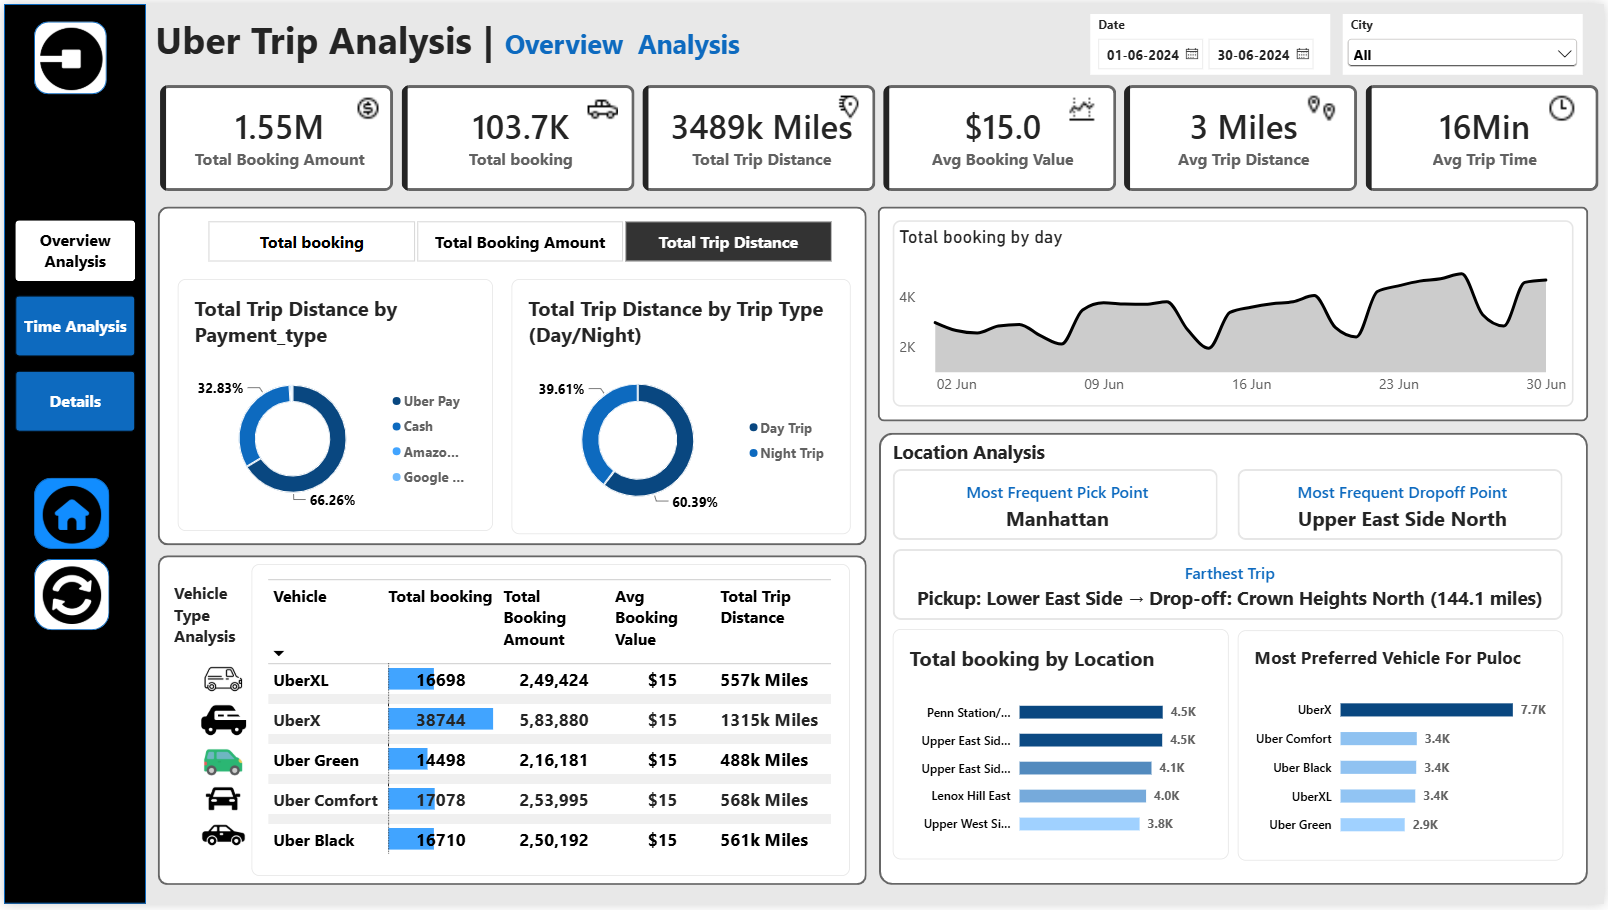

The page's visual inventory and layout, read from the dashboard file:
{"tool":"powerbi","page":{"name":"Overview Analysis","canvas":[1600,900],"ordinal":0},"visuals":[{"type":"shape","box":[0,0,142,899.7],"z":0},{"type":"shape","box":[30.5,17.4,72.7,72.7],"z":0,"group":"g1"},{"type":"textbox","box":[151.4,10,601.4,65.7],"z":1000},{"type":"image","box":[36.3,23.2,62,62.5],"z":1000,"group":"g1"},{"type":"cardVisual","fields":{"Data":["Trip details.Total Booking Amount","Trip details.Total booking","Trip details.Total Trip Distance","Trip details.Avg Booking Time","Trip details.Avg Trip Distance","Trip details.Avg Trip Time"]},"box":[150.8,76.1,1449.5,116.4],"z":2000},{"type":"image","box":[579.2,89.6,40.3,30],"z":3000},{"type":"shape","box":[153.8,203,709.1,338.9],"z":4000},{"type":"image","box":[1539.1,89.6,40,30],"z":5000},{"type":"image","box":[828.5,89.6,35,26],"z":6000},{"type":"image","box":[1297.3,89.6,40,30],"z":7000},{"type":"image","box":[344.8,89.6,40,30],"z":8000},{"type":"image","box":[1058.4,89.6,40,30],"z":9000},{"type":"slicer","fields":{"Values":["Dynamic Measure.Dynamic Measure"]},"box":[183.6,215,662.8,44.8],"z":10000},{"type":"donutChart","fields":{"Category":["Trip details.Payment_type"],"Y":["Trip details.Total Trip Distance Measure"]},"box":[173.2,274.7,315,252.3],"z":11000},{"type":"donutChart","fields":{"Category":["Trip details.Trip Type (Day/Night)"],"Y":["Trip details.Total Trip Distance Measure"]},"box":[507.6,274.7,338.9,255.3],"z":12000},{"type":"shape","box":[153.8,550.9,709.1,329.9],"z":13000},{"type":"pivotTable","fields":{"Rows":["Trip details.Vehicle"],"Values":["Trip details.Total booking","Trip details.Total Booking Amount","Trip details.Avg Booking Time","Trip details.Total Trip Distance"]},"box":[247.8,559.8,598.6,312],"z":14000},{"type":"image","box":[192.3,694.2,53.7,44.8],"z":15000},{"type":"image","box":[192.3,656.8,53.7,37.3],"z":16000},{"type":"image","box":[192.3,738.9,53.7,38.8],"z":17000},{"type":"image","box":[196,777.8,46.3,34.3],"z":18000},{"type":"image","box":[187.1,812.1,64.2,43.3],"z":19000},{"type":"textbox","box":[170.2,577.7,71.7,79.1],"z":20000},{"type":"shape","box":[873.3,203,710.6,215],"z":21000},{"type":"areaChart","title":"Total booking by day","fields":{"Category":["Calender Table.Date.Variation.Date Hierarchy.Year","Calender Table.Date.Variation.Date Hierarchy.Quarter","Calender Table.Date.Variation.Date Hierarchy.Month","Calender Table.Date.Variation.Date Hierarchy.Day"],"Y":["Trip details.Total booking"]},"box":[888.2,216.5,680.7,186.6],"z":22000},{"type":"shape","box":[874.8,428.4,709.1,452.3],"z":23000},{"type":"cardVisual","fields":{"Data":["Trip details.Most Frequent Pick Point","Trip details.Most Frequent Dropoff Point"]},"box":[888.7,465,670.4,71.8],"z":24000},{"type":"cardVisual","fields":{"Data":["Trip details.Farthest Trip"]},"box":[888.7,545.1,670.4,71.8],"z":25000},{"type":"barChart","fields":{"Category":["Dim_Location.Location"],"Y":["Trip details.Total booking"]},"box":[888.7,624.5,335.9,230.6],"z":26000},{"type":"barChart","title":" Most Preferred Vehicle For Puloc","fields":{"Category":["Trip details.Vehicle"],"Y":["CountNonNull(Trip details.PULocationID)"]},"box":[1233.8,626.1,325.3,230.6],"z":27000},{"type":"textbox","box":[888.7,435.2,317.6,29],"z":28000},{"type":"slicer","fields":{"Values":["Calender Table.Date"]},"box":[1085.8,10,239.7,61.1],"z":29000},{"type":"slicer","fields":{"Values":["Dim_Location.City"]},"box":[1339.2,10,239.7,61.1],"z":30000},{"type":"group","id":"g1","title":"Group 1","box":[30.5,17.4,72.7,72.7],"z":31000},{"type":"pageNavigator","box":[10.8,216.5,120.6,211.8],"z":32000},{"type":"shape","box":[30.5,473.8,75.6,71.2],"z":33000},{"type":"image","box":[39.2,478.2,58.1,64],"z":34000},{"type":"shape","box":[30.5,555.2,75.6,71.2],"z":34500},{"type":"image","box":[39.2,559.6,58.1,62.5],"z":35000}]}

Visuals, with their boxes in screenshot pixels (x1, y1, x2, y2), scaled from the page's 1600x900 canvas onto the 1608x910 screenshot:
shape: bbox=[0, 0, 143, 909]
shape: bbox=[31, 18, 104, 91]
textbox: bbox=[152, 10, 757, 77]
image: bbox=[36, 23, 99, 87]
cardVisual - Trip details.Total Booking Amount x Trip details.Total booking: bbox=[152, 77, 1607, 195]
image: bbox=[582, 91, 623, 121]
shape: bbox=[155, 205, 867, 548]
image: bbox=[1547, 91, 1587, 121]
image: bbox=[833, 91, 868, 117]
image: bbox=[1304, 91, 1344, 121]
image: bbox=[347, 91, 387, 121]
image: bbox=[1064, 91, 1104, 121]
slicer - Dynamic Measure.Dynamic Measure: bbox=[185, 217, 851, 263]
donutChart - Trip details.Payment_type x Trip details.Total Trip Distance Measure: bbox=[174, 278, 491, 533]
donutChart - Trip details.Trip Type (Day/Night) x Trip details.Total Trip Distance Measure: bbox=[510, 278, 851, 536]
shape: bbox=[155, 557, 867, 891]
pivotTable - Trip details.Vehicle x Trip details.Total booking: bbox=[249, 566, 851, 881]
image: bbox=[193, 702, 247, 747]
image: bbox=[193, 664, 247, 702]
image: bbox=[193, 747, 247, 786]
image: bbox=[197, 786, 244, 821]
image: bbox=[188, 821, 253, 865]
textbox: bbox=[171, 584, 243, 664]
shape: bbox=[878, 205, 1592, 423]
"Total booking by day" areaChart: bbox=[893, 219, 1577, 408]
shape: bbox=[879, 433, 1592, 890]
cardVisual - Trip details.Most Frequent Pick Point x Trip details.Most Frequent Dropoff Point: bbox=[893, 470, 1567, 543]
cardVisual - Trip details.Farthest Trip: bbox=[893, 551, 1567, 624]
barChart - Dim_Location.Location x Trip details.Total booking: bbox=[893, 631, 1231, 865]
" Most Preferred Vehicle For Puloc" barChart: bbox=[1240, 633, 1567, 866]
textbox: bbox=[893, 440, 1212, 469]
slicer - Calender Table.Date: bbox=[1091, 10, 1332, 72]
slicer - Dim_Location.City: bbox=[1346, 10, 1587, 72]
"Group 1" group: bbox=[31, 18, 104, 91]
pageNavigator: bbox=[11, 219, 132, 433]
shape: bbox=[31, 479, 107, 551]
image: bbox=[39, 484, 98, 548]
shape: bbox=[31, 561, 107, 633]
image: bbox=[39, 566, 98, 629]
